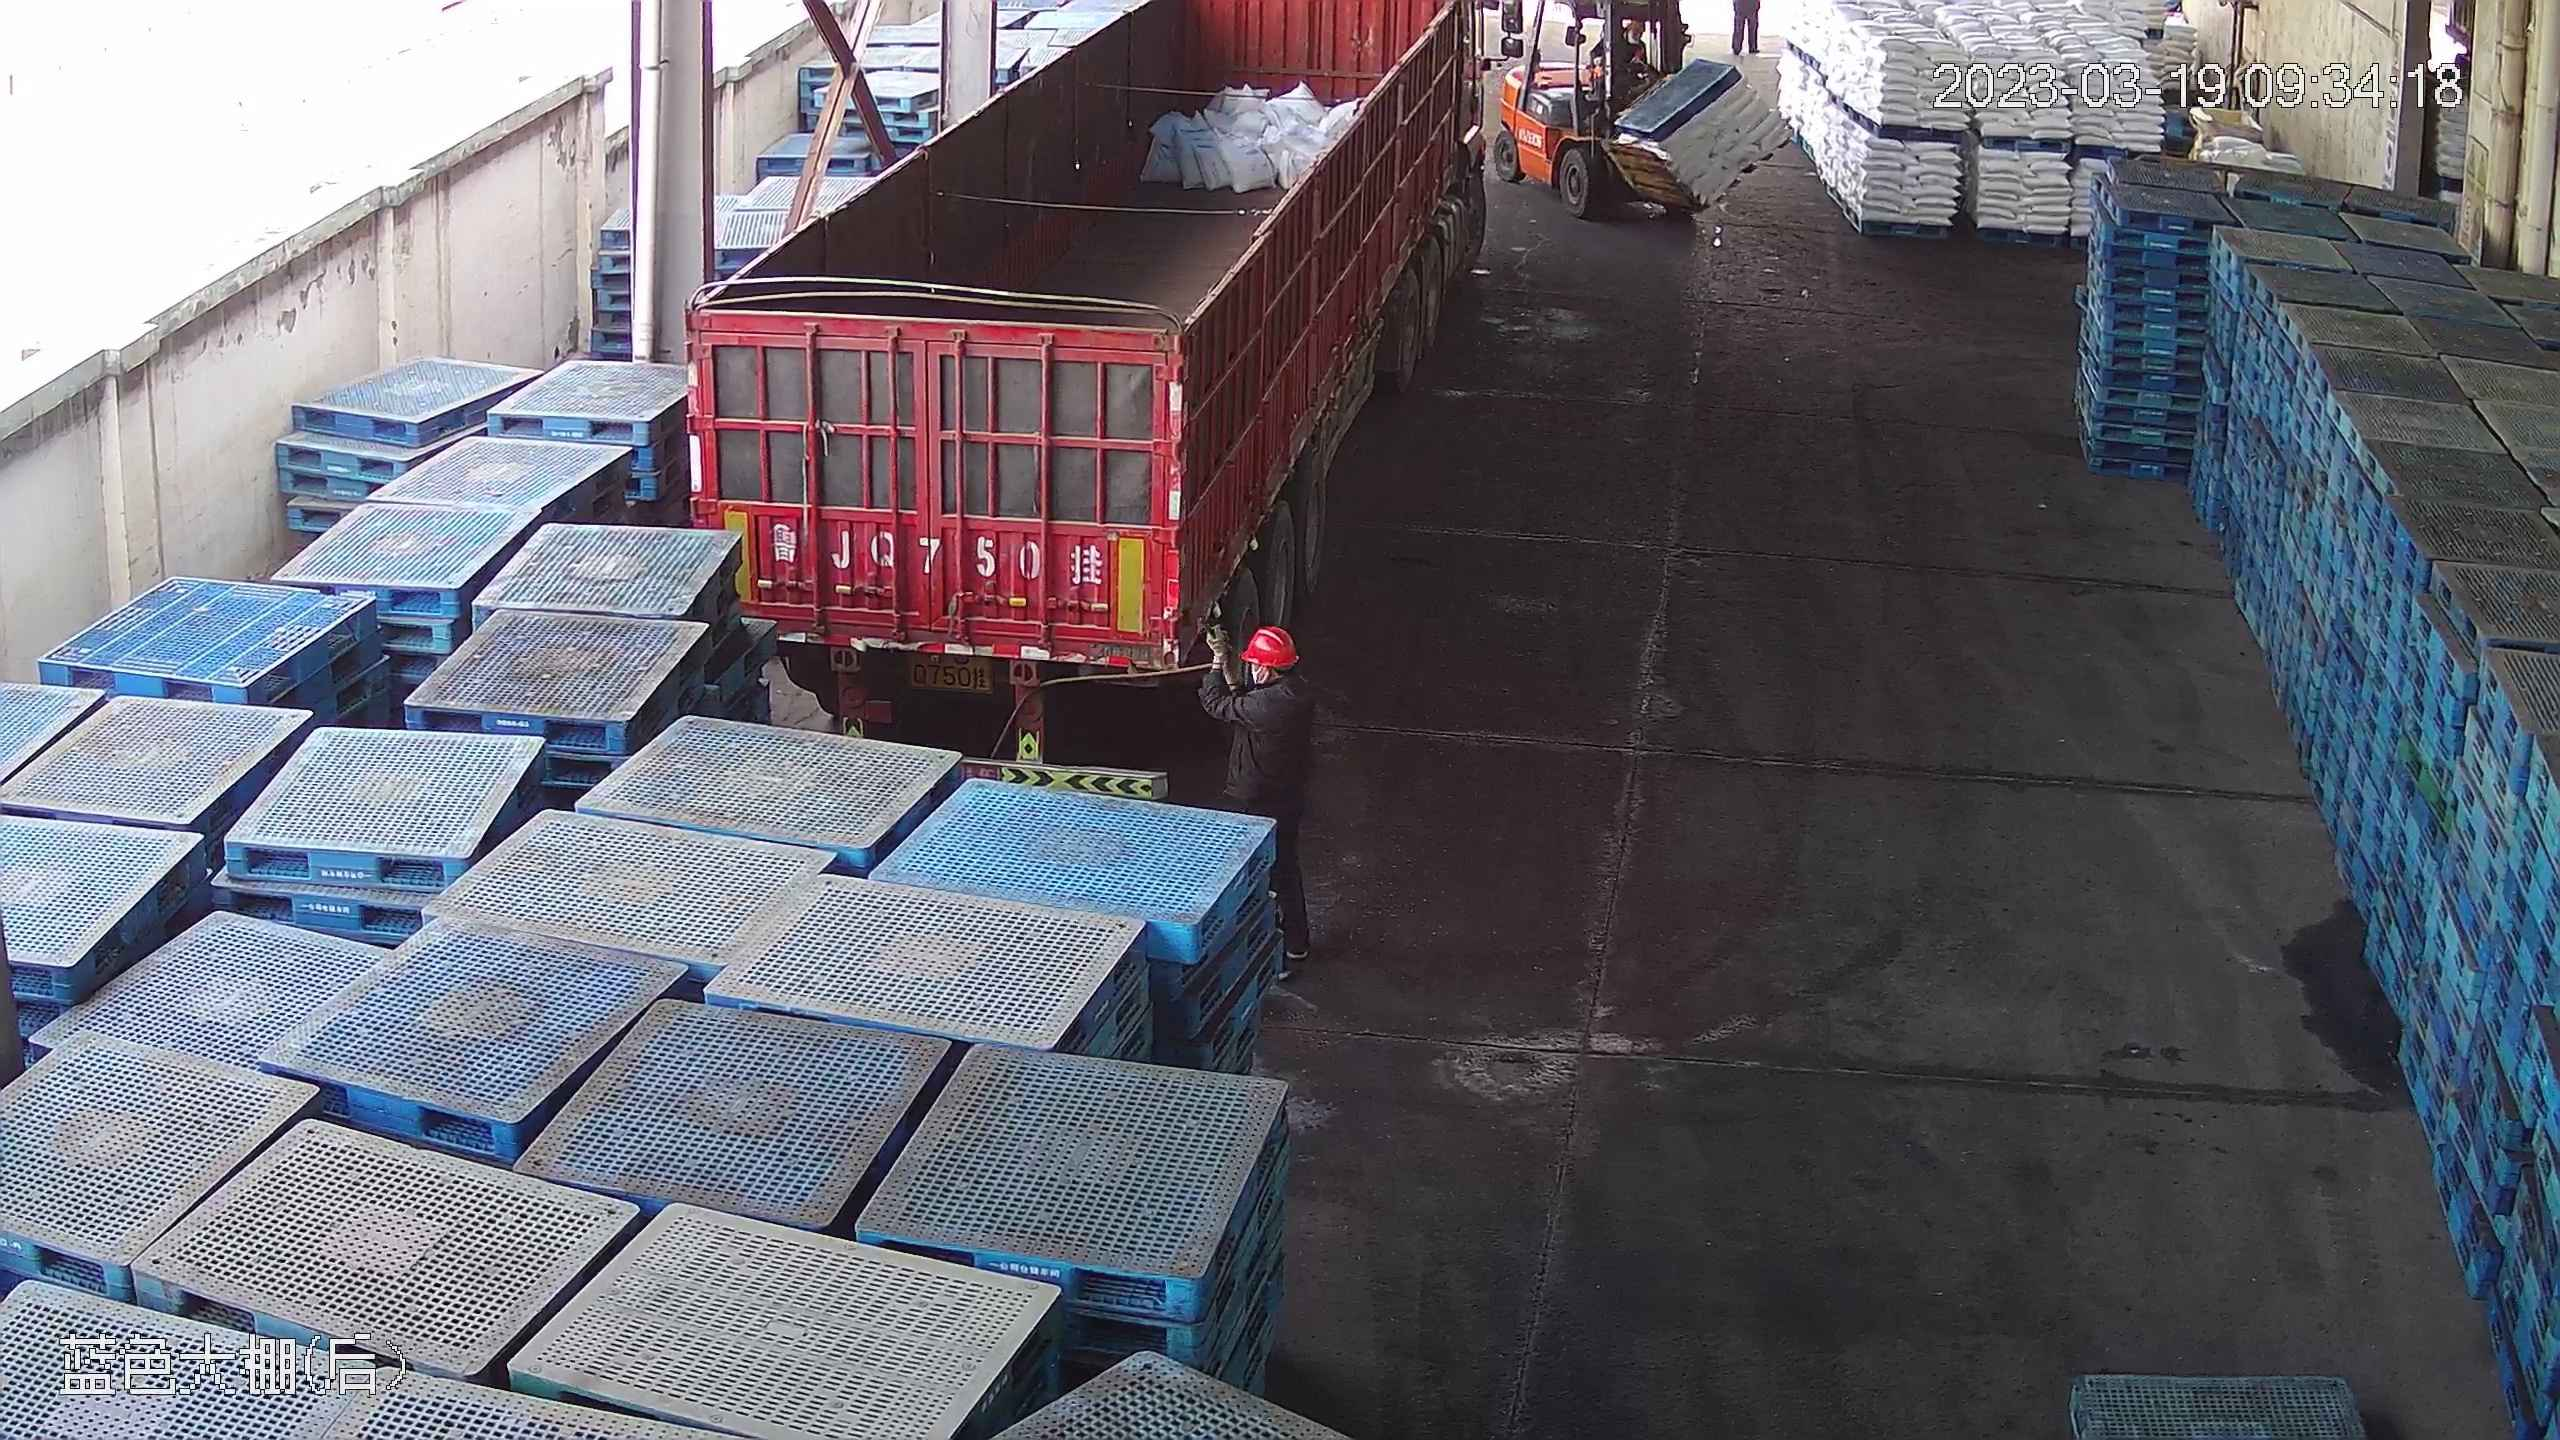head: (1228, 621, 1312, 734)
helmet: (1240, 621, 1301, 667)
people: (1231, 623, 1321, 976)
truck: (706, 0, 1499, 739)
